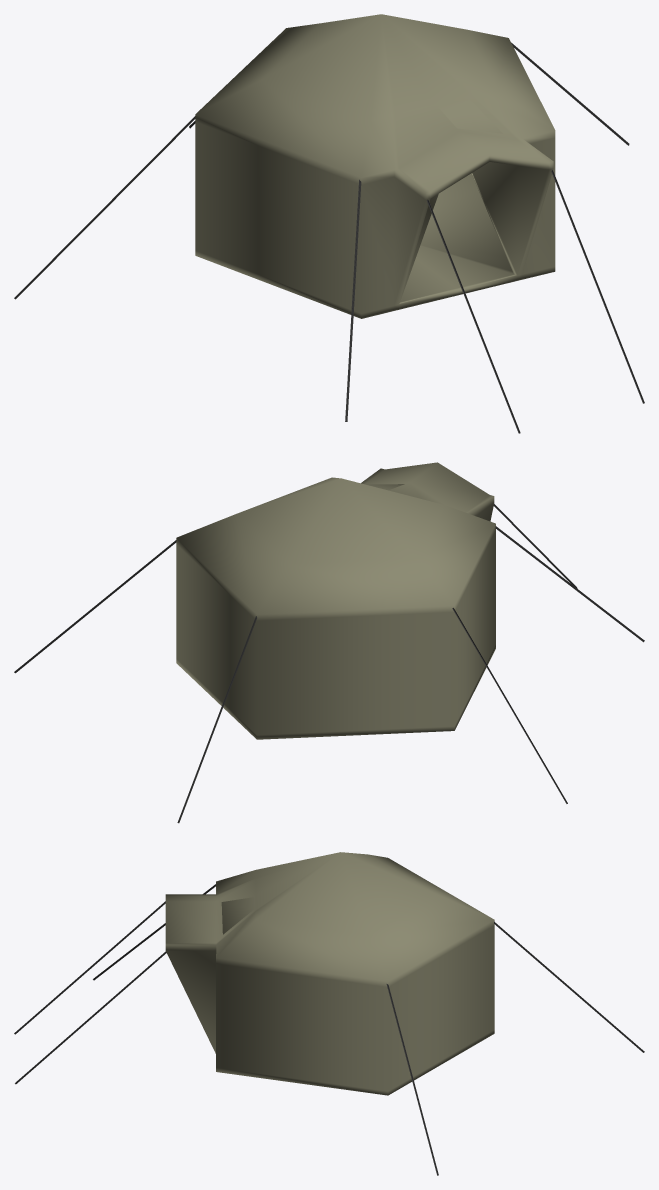
File: Tent_2.fbx
The picture shows the model from 3 angles, top to bottom: view 1: azimuth 30°, elevation 25°; view 2: azimuth 150°, elevation 25°; view 3: azimuth 270°, elevation 25°; orthographic projection. The views are drawn at different scales.
Parts seen in each view (by area): view 1: Living Tent.002; view 2: Living Tent.002; view 3: Living Tent.002.
Part boxes in pixels (x1,y1,x2,y2): Living Tent.002: (14, 14, 644, 433); Living Tent.002: (14, 462, 644, 823); Living Tent.002: (14, 852, 644, 1175).
Size of the model in its own units: 1024 by 407 by 1117.
